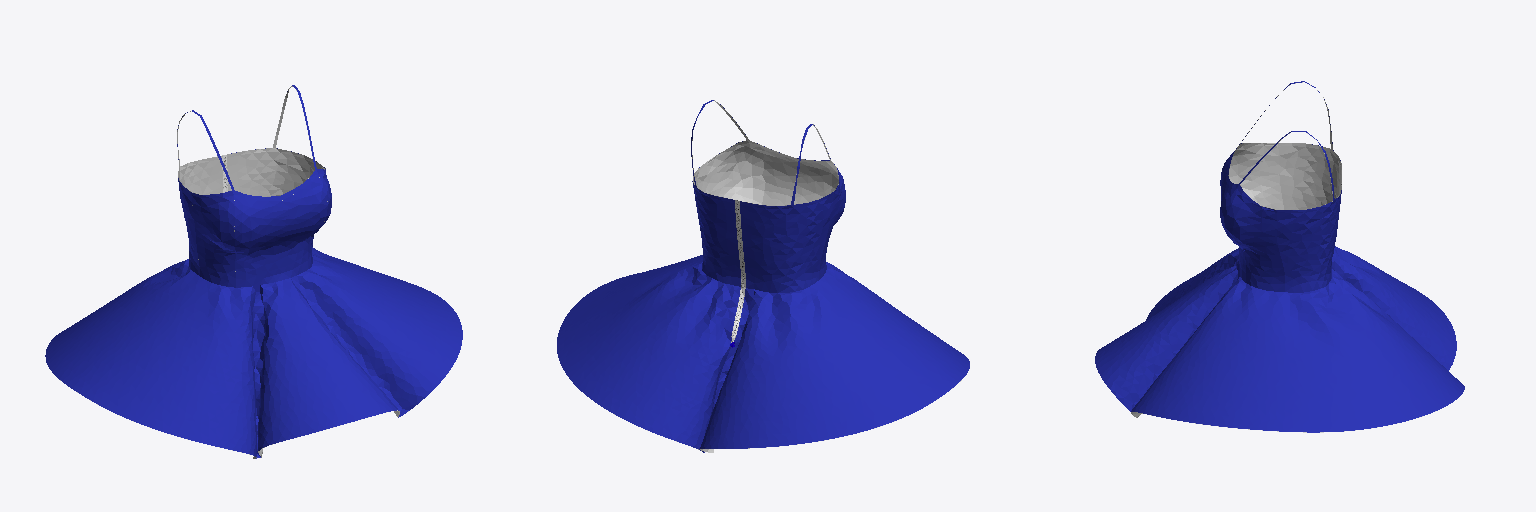
The picture shows the model from 3 angles: view 1: azimuth 30°, elevation 25°; view 2: azimuth 150°, elevation 25°; view 3: azimuth 270°, elevation 25°; orthographic projection.
Size of the model in its own units: 817 by 633 by 712.
Materials: 15 (3 with a texture image).